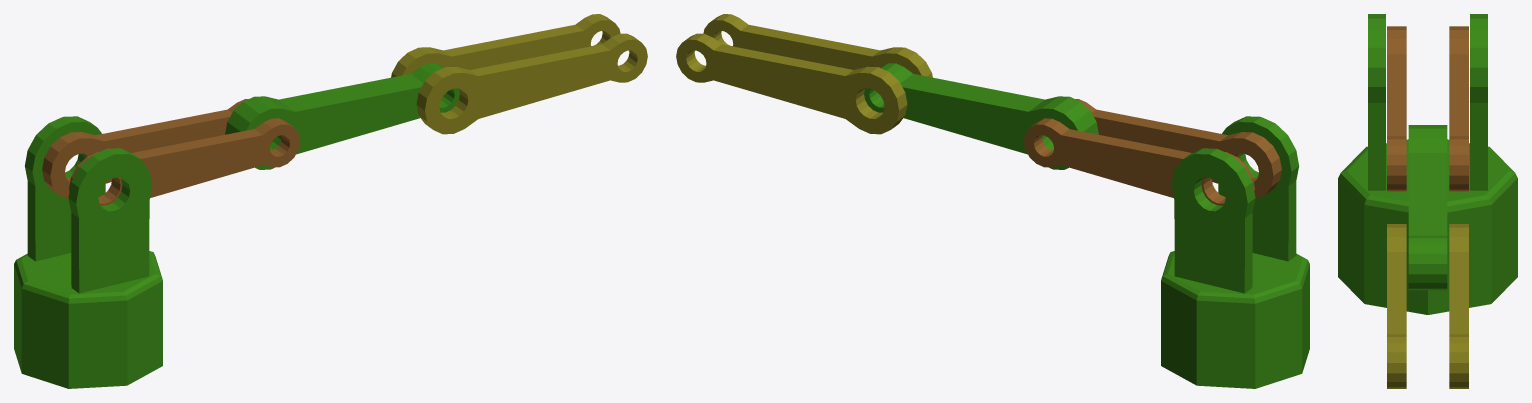
3 renders of one model, left to right at view 1: azimuth 30°, elevation 25°; view 2: azimuth 150°, elevation 25°; view 3: azimuth 270°, elevation 25°, orthographic. The views are drawn at different scales.
Visible parts, largest first — view 1: Base, J.002, J.000, J.001; view 2: Base, J.002, J.000, J.001; view 3: Base, J.000, J.001, J.002.
Part boxes in pixels (box(x1,y1,x2,y2)): Base: box(14, 116, 162, 388); J.002: box(391, 14, 647, 134); J.000: box(42, 99, 300, 205); J.001: box(225, 63, 459, 169); Base: box(1161, 116, 1309, 388); J.002: box(676, 14, 932, 134); J.000: box(1023, 99, 1281, 205); J.001: box(864, 63, 1098, 169); Base: box(1338, 14, 1517, 314); J.000: box(1387, 26, 1468, 191); J.001: box(1408, 125, 1447, 290); J.002: box(1387, 224, 1468, 388).
Size of what is drawn, in the model's own units: 21.01 by 7.32 by 4.61.
